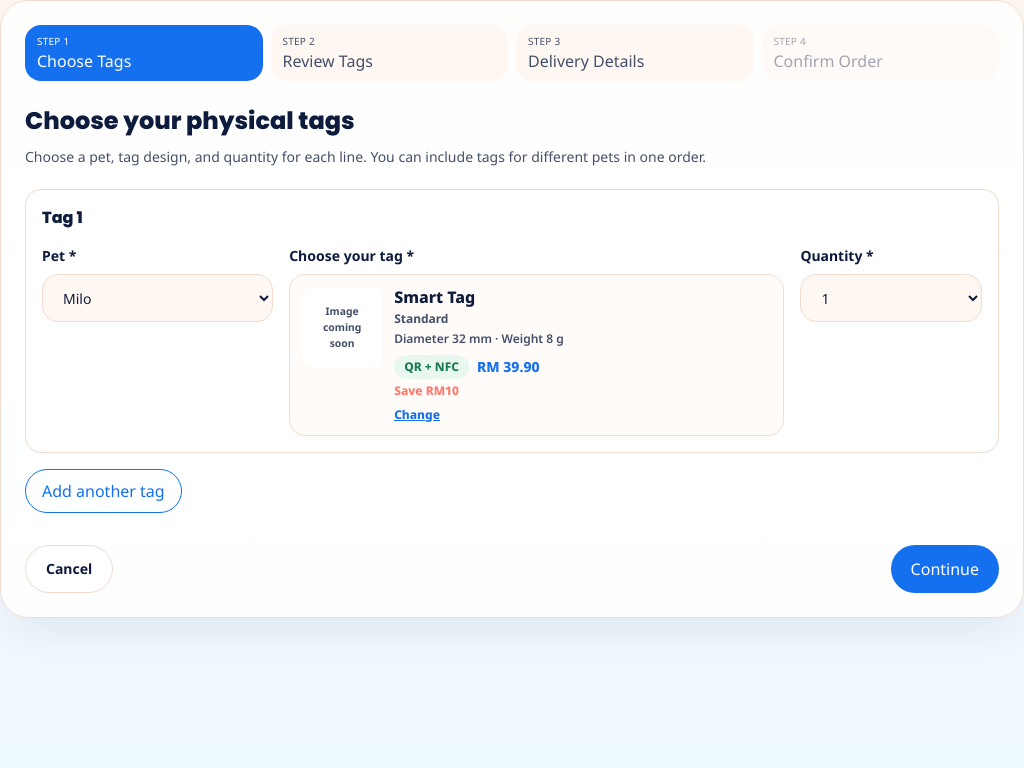
Scenario: TagOrderFlow catalog pricing › groups technology options under one product and never exposes internal codes
Click the button with aria-label "Change tag for Tag 1". click: (537, 355)
box: [289,274,784,436]
(page scrolled)
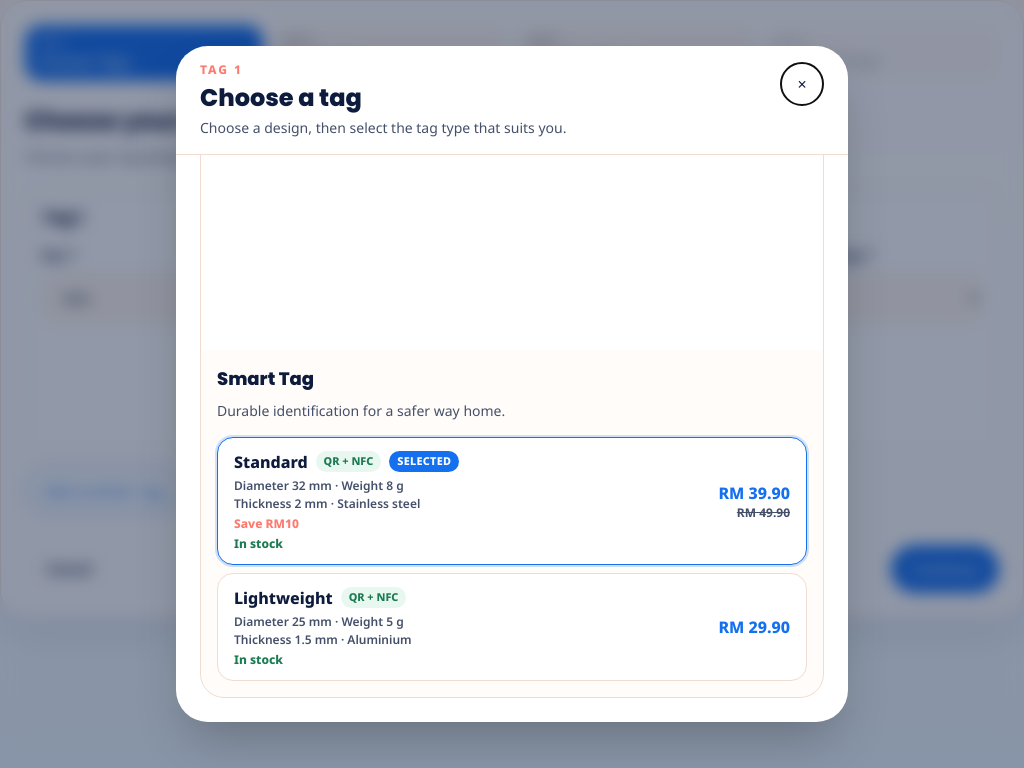
Check: the dialog "Choose a tag" is shown
Check: the number of headings "Smart Tag" is 1, box [217,366,314,391]
Check: the radio button with aria-label "Smart Tag, Lightweight, QR + NFC, RM 29.90, In stock, Diamet" is shown, box [217,573,807,681]
